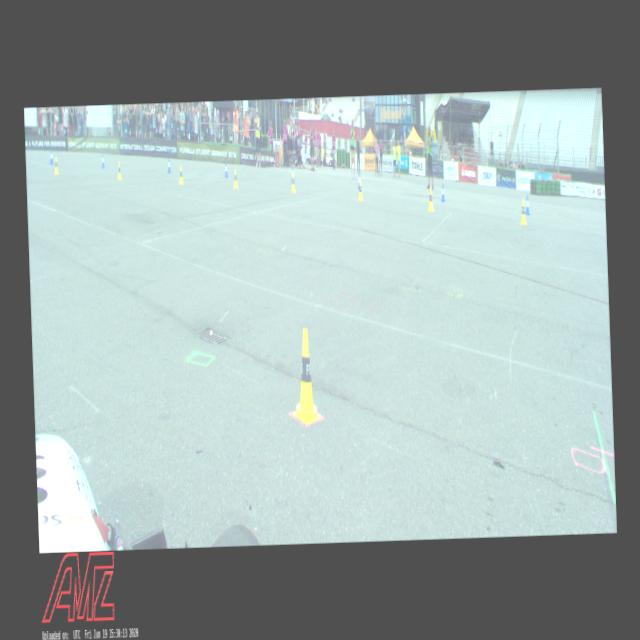blue_cone: (524, 194, 530, 214), (48, 148, 54, 164), (100, 152, 106, 168), (166, 156, 172, 172), (223, 160, 228, 177), (290, 166, 295, 182), (440, 184, 444, 202), (356, 172, 359, 188)
yellow_cone: (290, 328, 320, 424), (520, 198, 526, 225), (427, 186, 433, 212), (232, 168, 238, 188), (290, 172, 296, 192), (116, 162, 122, 180), (178, 166, 184, 184), (358, 180, 362, 200), (54, 156, 58, 174)
